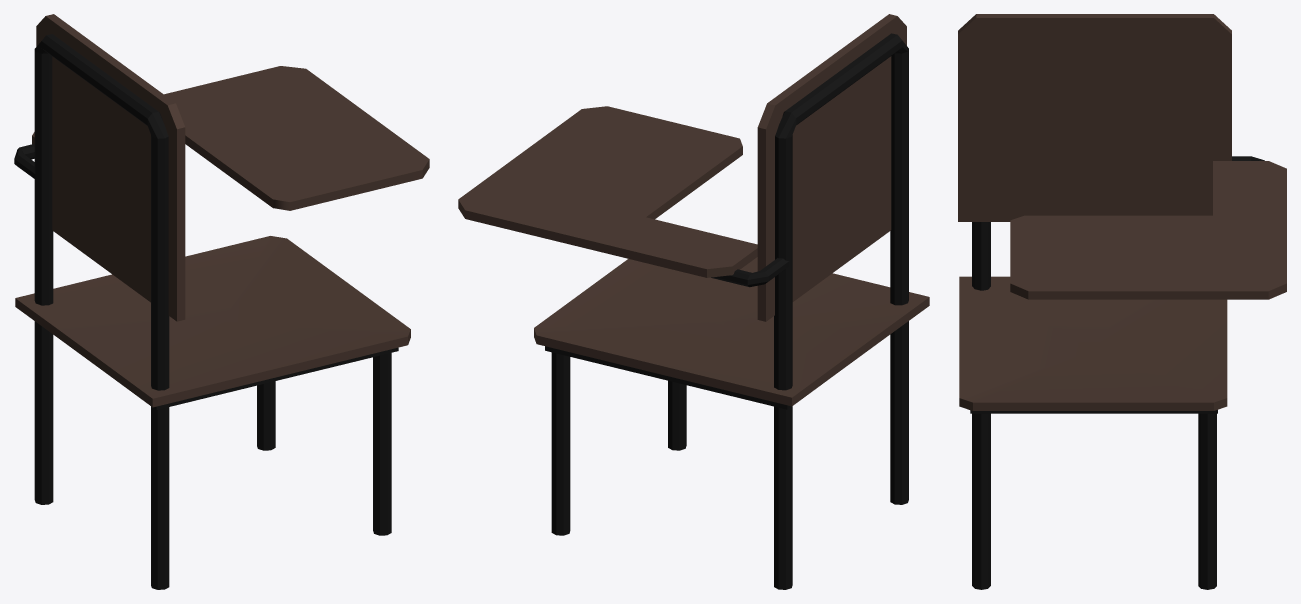
File: Elements_Chair-1.fbx
3 renders of one model, left to right at view 1: azimuth 30°, elevation 25°; view 2: azimuth 150°, elevation 25°; view 3: azimuth 270°, elevation 25°, orthographic. The views are drawn at different scales.
Visible parts, largest first — view 1: Seat, BackSeat, Table, BackLegs, FrontLeg_2, FrontLeg_1, Leg_Support; view 2: Seat, Table, BackSeat, BackLegs, FrontLeg_1, FrontLeg_2, Leg_Support, Arm_Support; view 3: BackSeat, Seat, Table, FrontLeg_1, FrontLeg_2, BackLegs, Leg_Support.
Boxes of the visible parts, x1,y1,x2,y2 form: Seat: [15, 236, 410, 407]; BackSeat: [36, 14, 185, 321]; Table: [32, 66, 429, 210]; BackLegs: [34, 34, 169, 589]; FrontLeg_2: [373, 353, 391, 535]; FrontLeg_1: [257, 381, 275, 450]; Leg_Support: [153, 347, 398, 409]; Seat: [534, 257, 929, 406]; Table: [458, 106, 757, 277]; BackSeat: [757, 14, 906, 321]; BackLegs: [774, 33, 908, 589]; FrontLeg_1: [551, 352, 570, 535]; FrontLeg_2: [668, 380, 686, 450]; Leg_Support: [545, 346, 791, 409]; Arm_Support: [711, 258, 789, 287]; BackSeat: [958, 14, 1231, 221]; Seat: [959, 276, 1227, 410]; Table: [1010, 161, 1286, 299]; FrontLeg_1: [1198, 413, 1216, 589]; FrontLeg_2: [972, 413, 990, 589]; BackLegs: [972, 222, 990, 290]; Leg_Support: [970, 410, 1217, 413].
Size of the model in its own units: 37.47 by 55.21 by 35.1.
3 materials, 3 textured.
